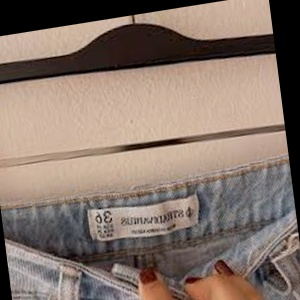stradivarius: (133, 94, 271, 300)
